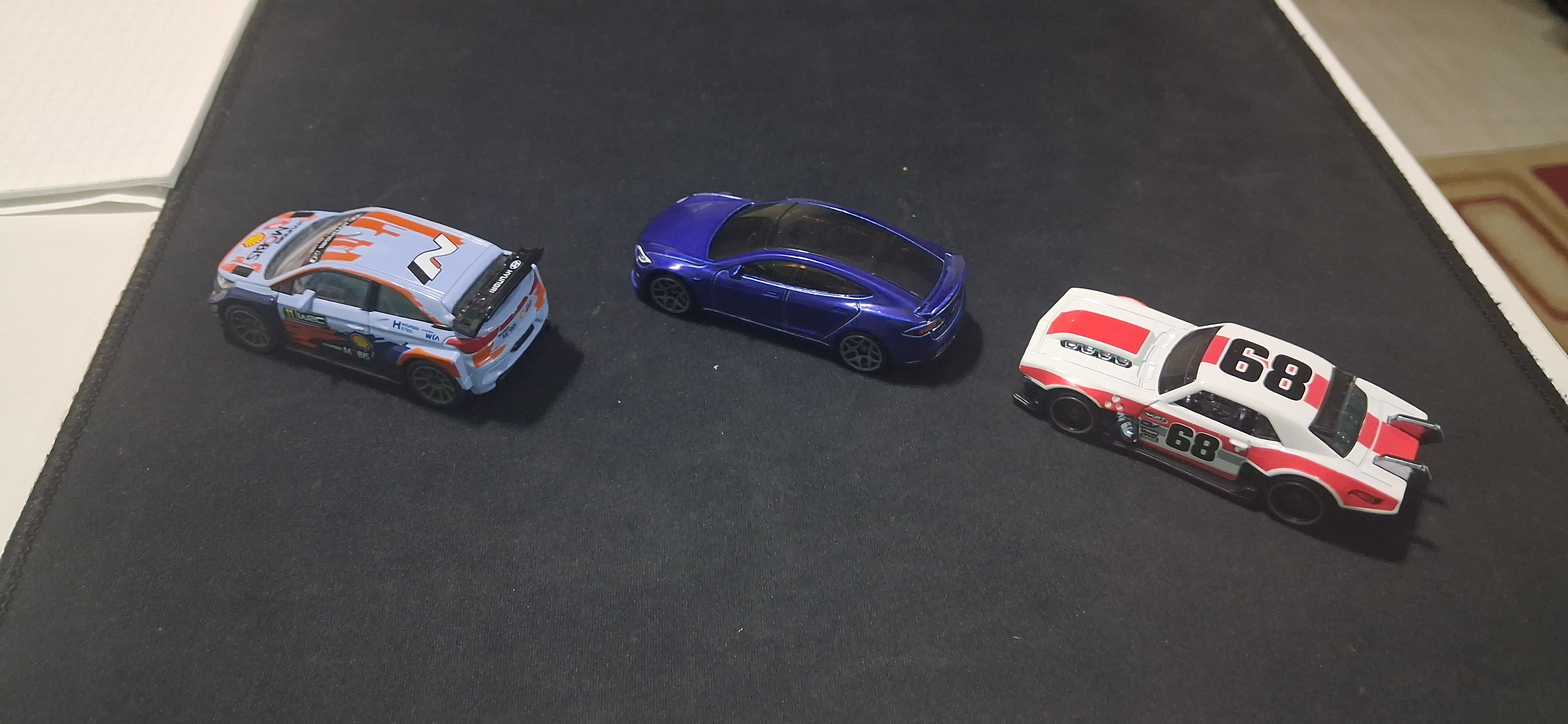Camaro: (1000, 202, 1464, 601)
Hyundai_I20_WRC: (184, 150, 565, 454)
Tesla_Model_S_Plaid: (610, 137, 984, 403)
